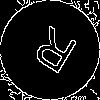R: (25, 25, 80, 84)
